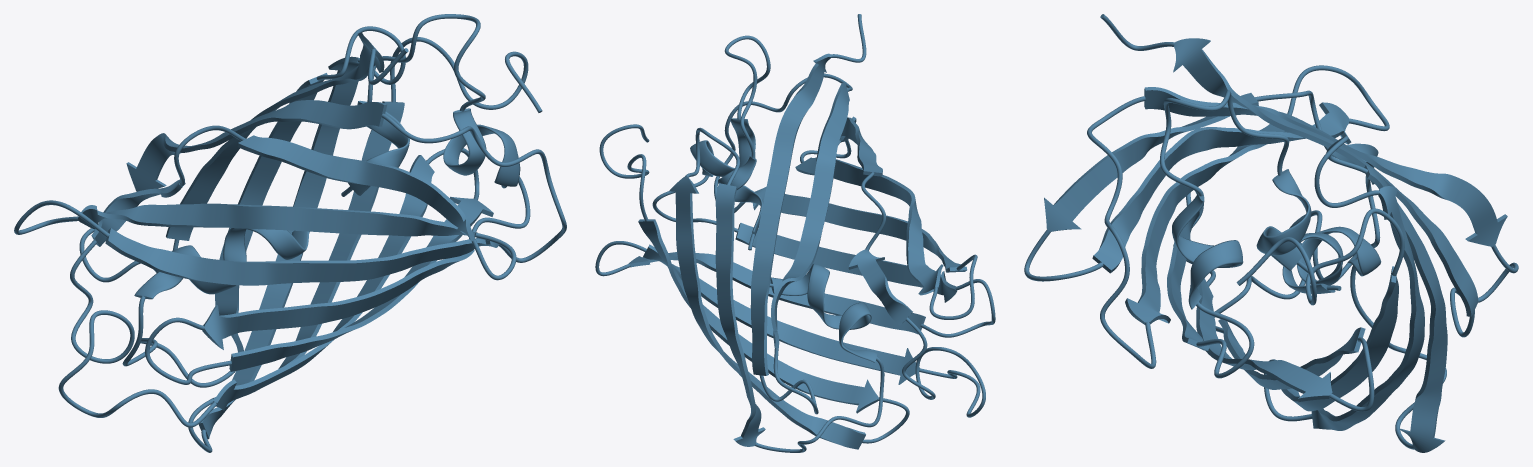
The model's file is mCherry%20Fluorescent%20Protein-ribbon-vis_NIH3D.glb.
The picture shows the model from 3 angles, left to right: view 1: azimuth 30°, elevation 25°; view 2: azimuth 150°, elevation 25°; view 3: azimuth 270°, elevation 25°; orthographic projection. The views are drawn at different scales.
Visible parts, largest first — view 1: ribbons; view 2: ribbons; view 3: ribbons.
Part boxes in pixels (<box>): ribbons: <box>14,14,566,452</box>; ribbons: <box>595,14,995,452</box>; ribbons: <box>1024,14,1518,452</box>.
Size of the model in its own units: 48.15 by 41.61 by 40.06.
